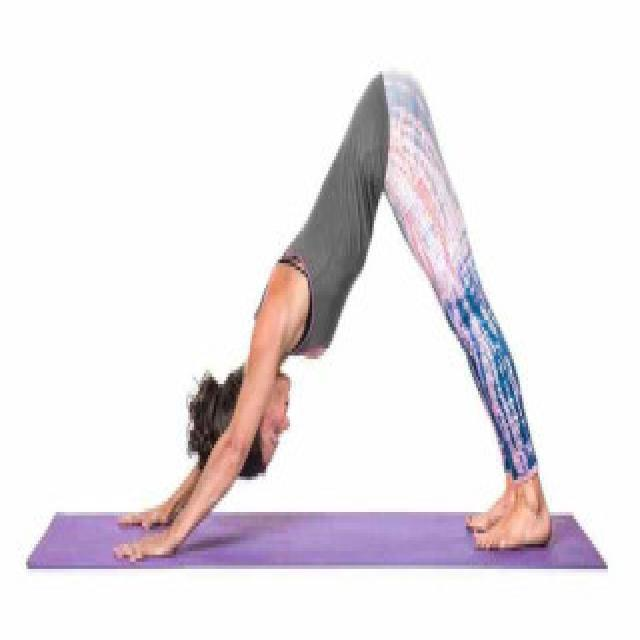yoga-pose downward: (111, 68, 552, 568)
